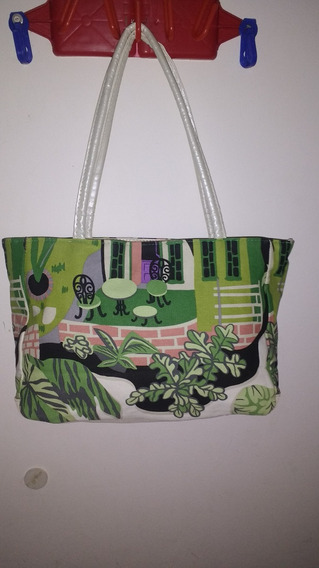cartera: (1, 21, 295, 424)
